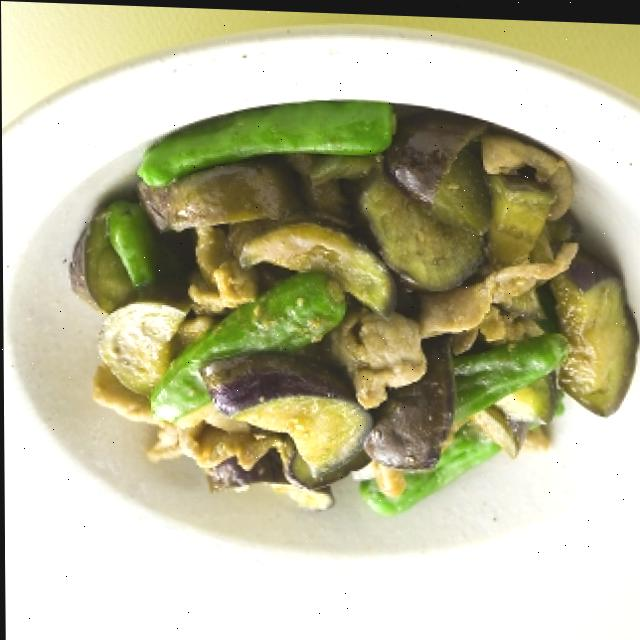鸡蛋料理: (71, 82, 640, 518)
